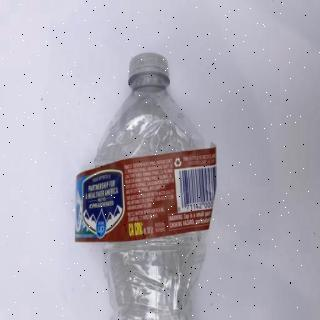Plastic-bottle: (72, 49, 224, 320)
